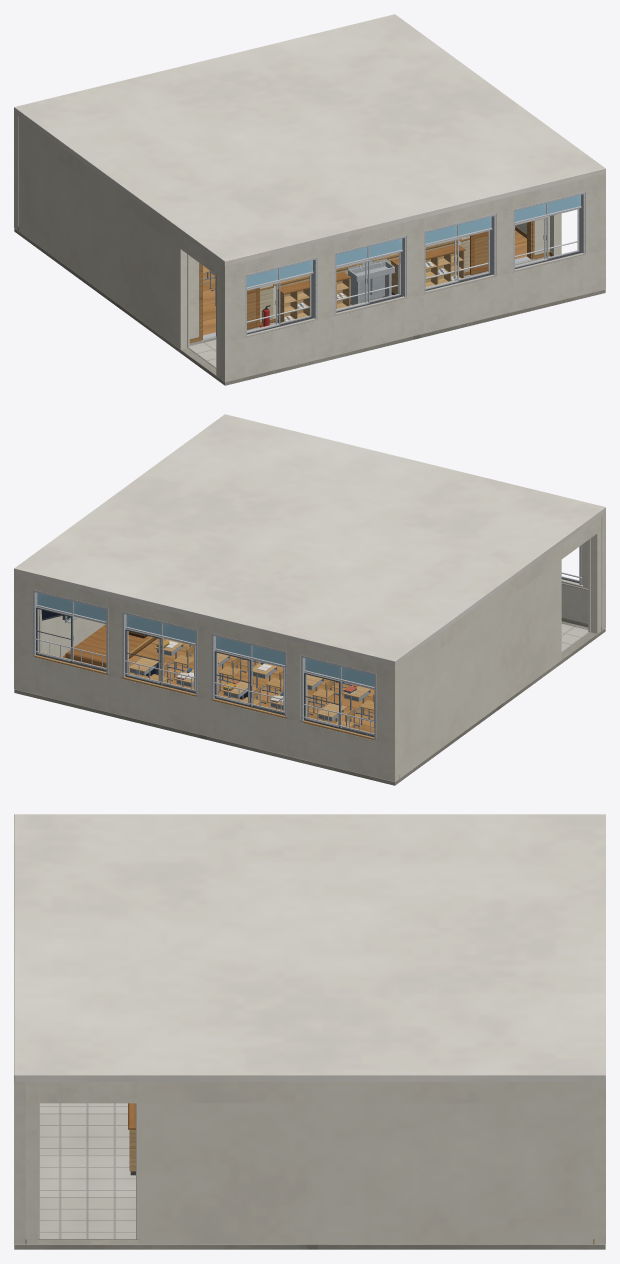
The model's file is kr_highschool_classroom_corridor-mobile.glb.
3 views of the same model, one above another, from view 1: azimuth 30°, elevation 25°; view 2: azimuth 150°, elevation 25°; view 3: azimuth 270°, elevation 25° (orthographic). The views are drawn at different scales.
Parts seen in each view (by area): view 1: BG_Ceiling, BG_Cutaway_Front, BG_Shell_Fixed, BG_Furnishings; view 2: BG_Ceiling, BG_Shell_Fixed, BG_Cutaway_Front, BG_Furnishings; view 3: BG_Ceiling, BG_Shell_Fixed, BG_Cutaway_Front.
Part boxes in pixels (x1=…): BG_Ceiling: x1=14, y1=14, x2=605, y2=265; BG_Cutaway_Front: x1=18, y1=115, x2=605, y2=381; BG_Shell_Fixed: x1=14, y1=112, x2=605, y2=385; BG_Furnishings: x1=203, y1=225, x2=515, y2=327; BG_Ceiling: x1=14, y1=414, x2=605, y2=665; BG_Shell_Fixed: x1=14, y1=573, x2=605, y2=785; BG_Cutaway_Front: x1=399, y1=512, x2=605, y2=778; BG_Furnishings: x1=65, y1=624, x2=374, y2=728; BG_Ceiling: x1=14, y1=814, x2=605, y2=1081; BG_Shell_Fixed: x1=14, y1=1082, x2=605, y2=1249; BG_Cutaway_Front: x1=14, y1=1082, x2=26, y2=1244.
Bounding box in the file's own units: 9.6 × 3 × 9.2.
Materials: 2 (2 with a texture image).
